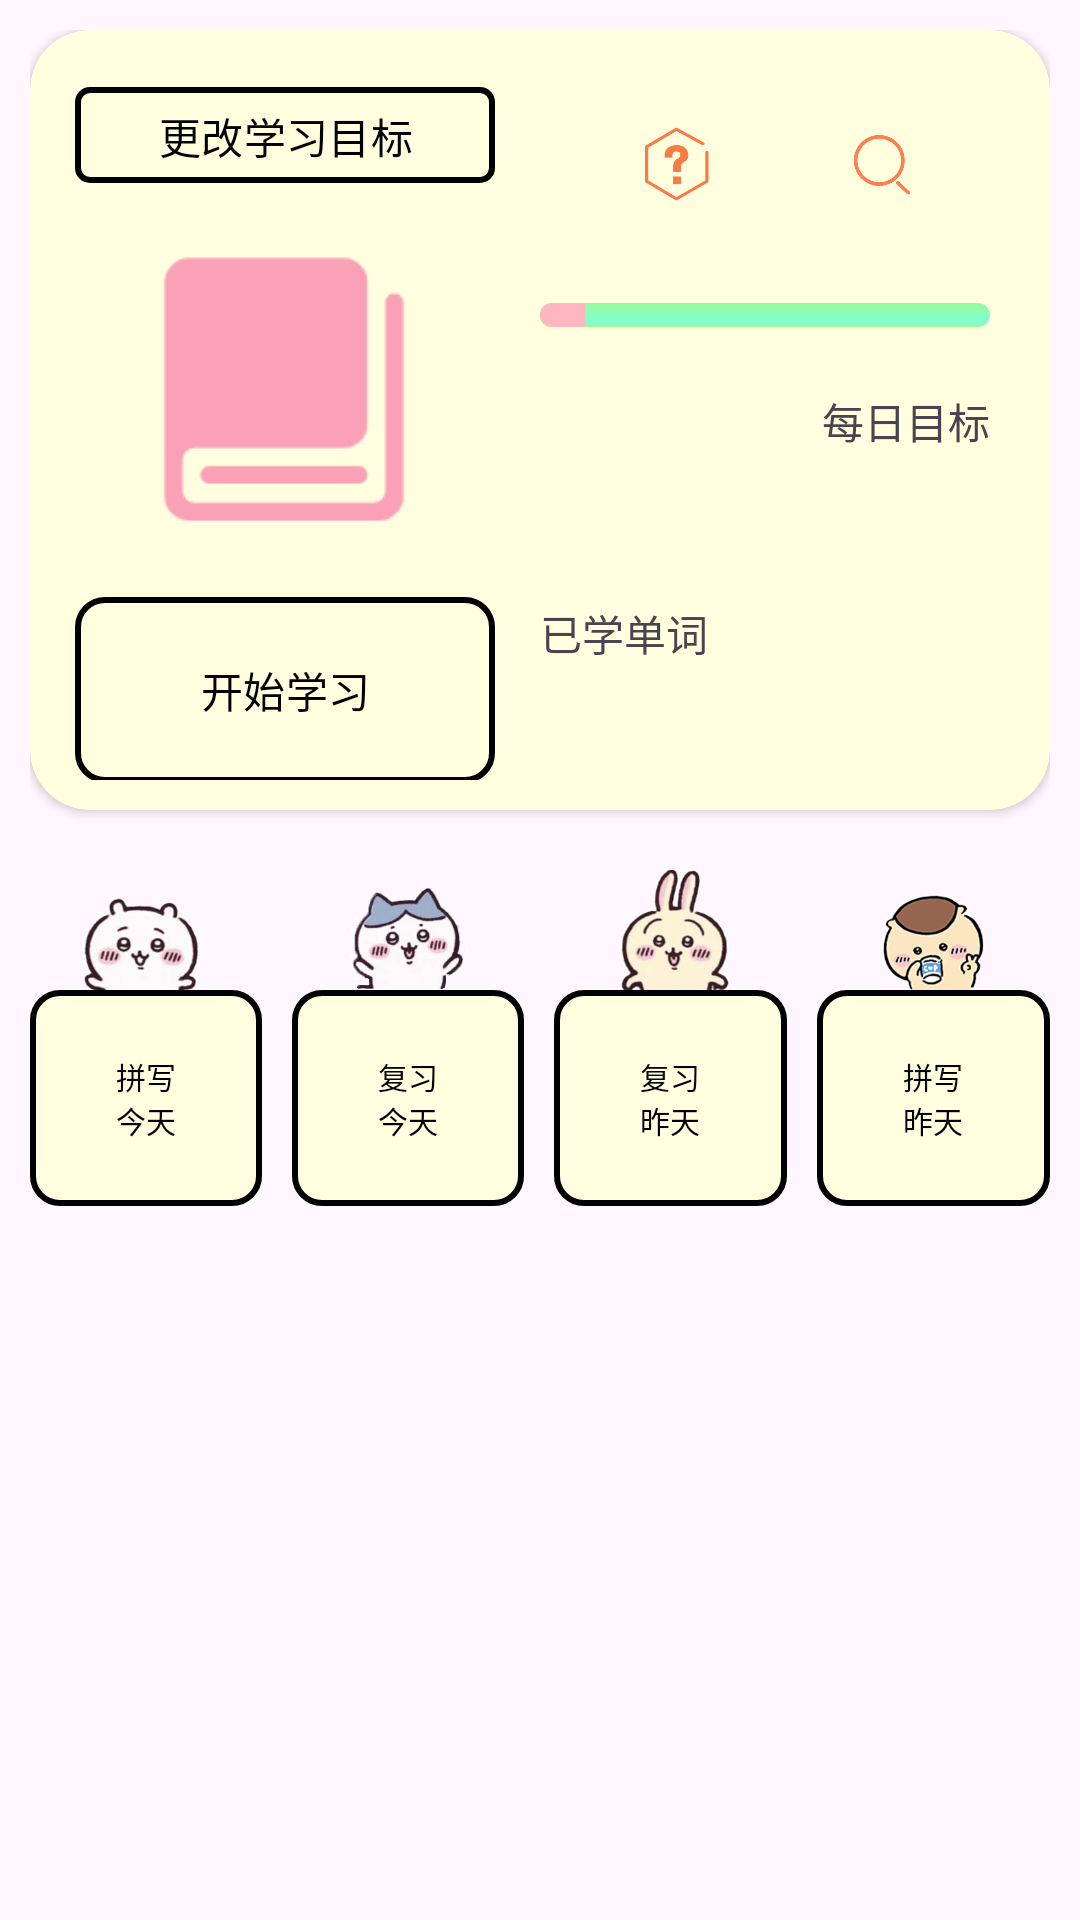

Screen size 1080px x 1920px. Icon name, then its box in pixels as (x1, y1, x2, y2):
book: (164, 257, 404, 521)
search: (854, 135, 910, 195)
why: (645, 128, 709, 201)
